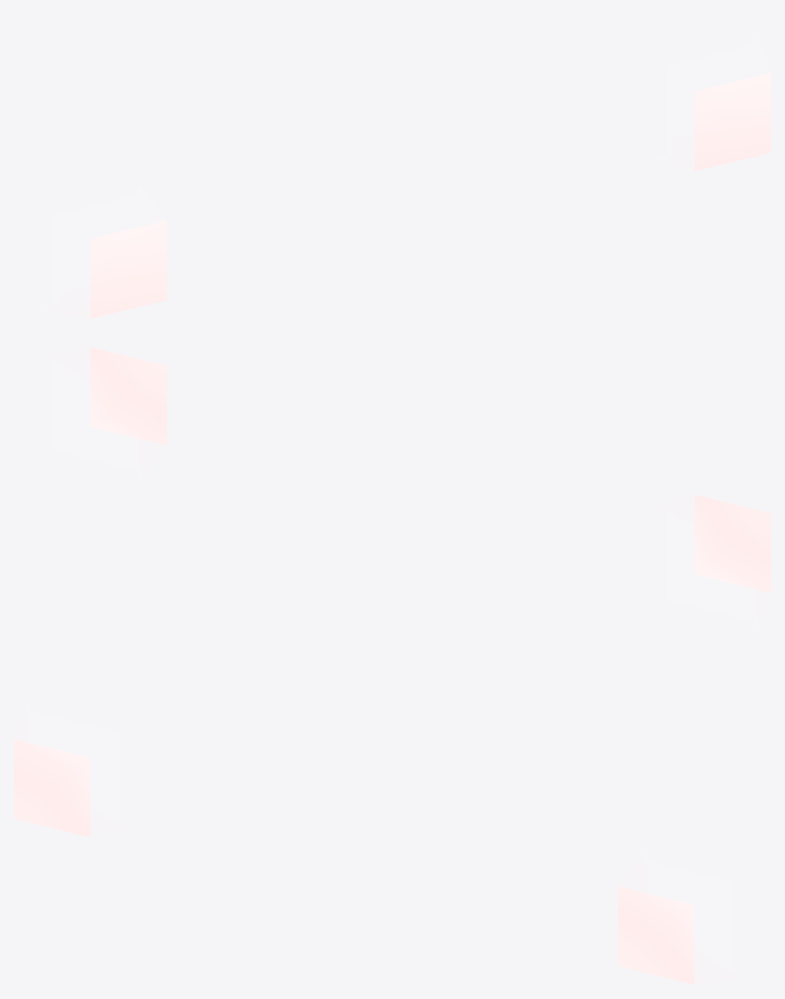
3 views of the same model, one above another, from view 1: azimuth 30°, elevation 25°; view 2: azimuth 150°, elevation 25°; view 3: azimuth 330°, elevation 25° (orthographic).
Visible parts, largest first — view 1: light.001; view 2: light.001; view 3: light.001.
Part boxes in pixels (x1=…): light.001: x1=73, y1=61, x2=770, y2=318; light.001: x1=73, y1=347, x2=770, y2=604; light.001: x1=14, y1=727, x2=711, y2=984.
Bounding box in the file's own units: 0.5 × 0.0729 × 0.0574.
